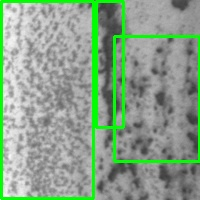patches: (96, 1, 123, 127)
pitted_surface: (1, 1, 93, 198), (114, 36, 199, 161)
